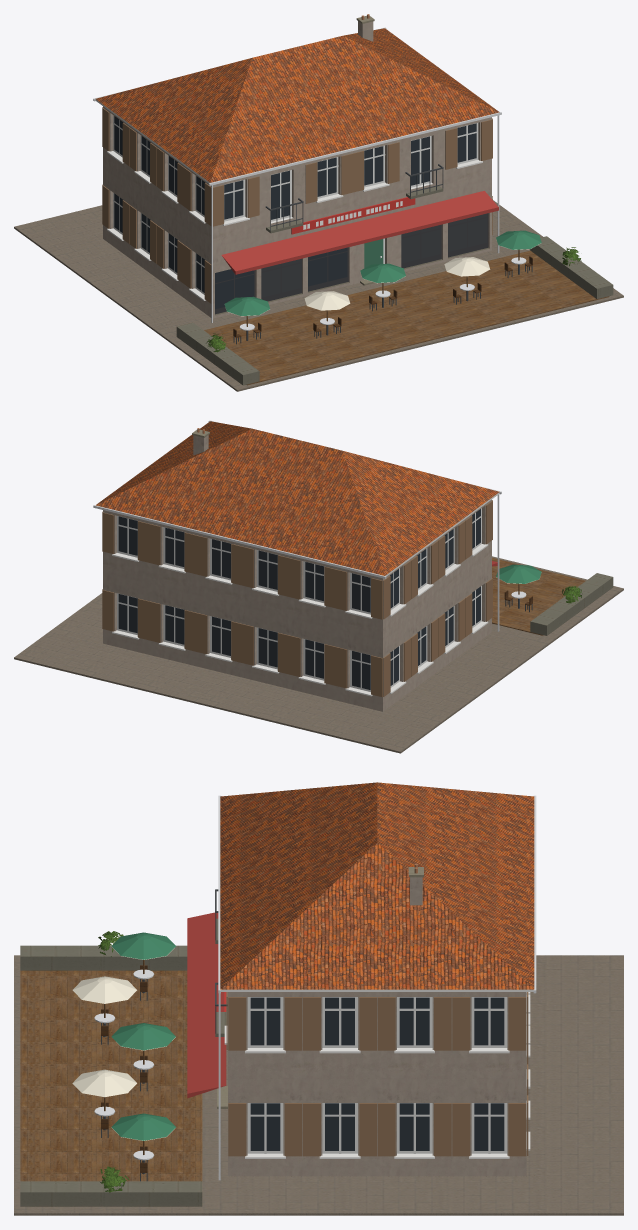
File: cafe.glb
The picture shows the model from 3 angles, top to bottom: view 1: azimuth 30°, elevation 25°; view 2: azimuth 150°, elevation 25°; view 3: azimuth 270°, elevation 25°; orthographic projection. The views are drawn at different scales.
Visible parts, largest first — view 1: cafe_body; view 2: cafe_body; view 3: cafe_body, cafe_foliage.
Part boxes in pixels (<box>): cafe_body: <box>14,14,623,391</box>; cafe_body: <box>14,420,623,753</box>; cafe_body: <box>14,782,623,1215</box>; cafe_foliage: <box>98,931,128,1192</box>.
Bounding box in the file's own units: 0.94 × 0.468 × 0.94.
Materials: 26 (9 with a texture image).
